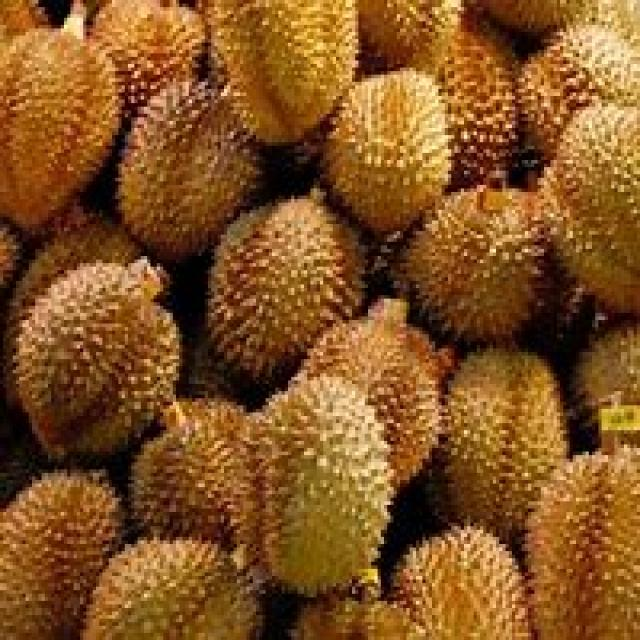mature: (12, 258, 180, 456), (298, 297, 455, 488), (208, 197, 362, 381), (118, 81, 260, 260), (0, 29, 120, 228), (444, 349, 566, 540), (131, 401, 270, 567), (405, 186, 546, 342), (209, 1, 359, 144), (324, 68, 451, 233), (0, 471, 122, 638), (84, 539, 261, 640)
